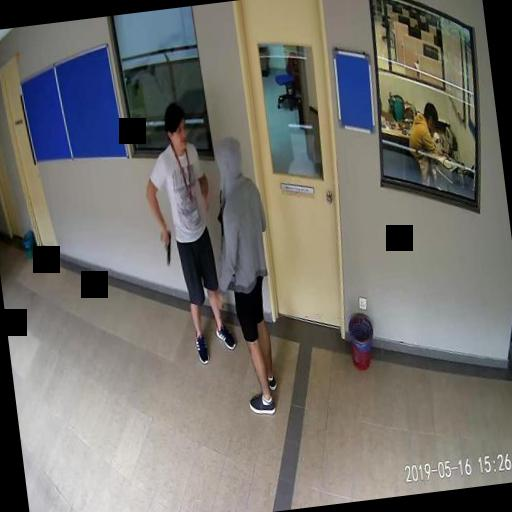Handgun: (158, 226, 174, 266)
